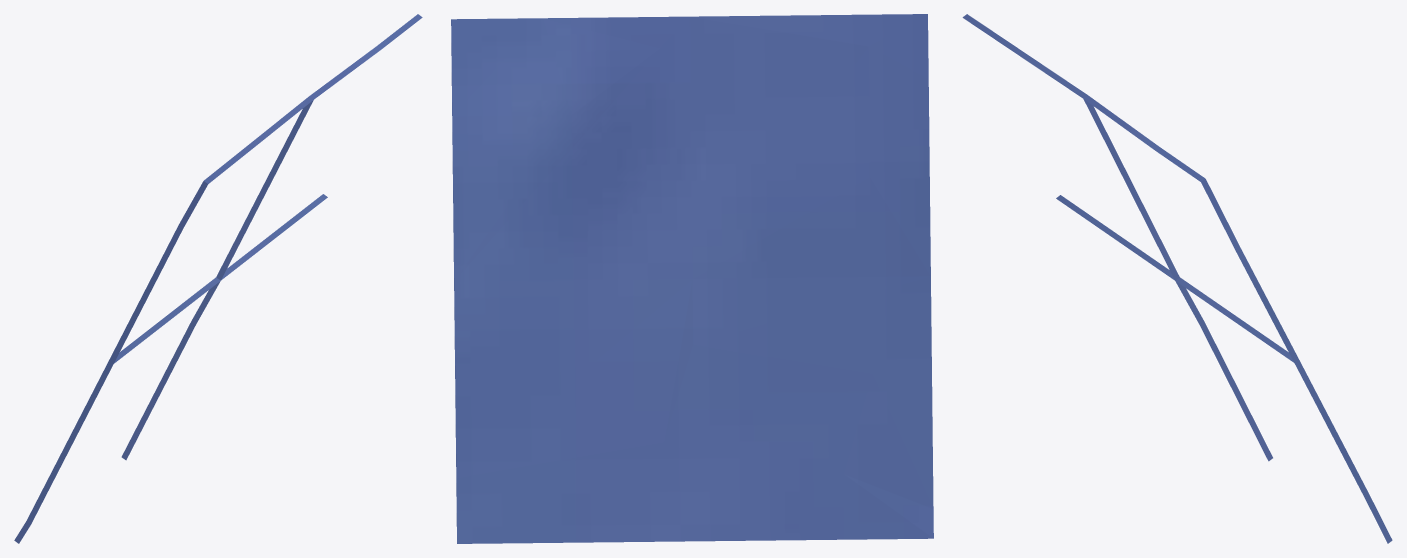
The picture shows the model from 3 angles, left to right: view 1: azimuth 30°, elevation 25°; view 2: azimuth 150°, elevation 25°; view 3: azimuth 270°, elevation 25°; orthographic projection. The views are drawn at different scales.
Bounding box in the file's own units: 4917 × 4423 × 4173.
Materials: 1 (1 with a texture image).
